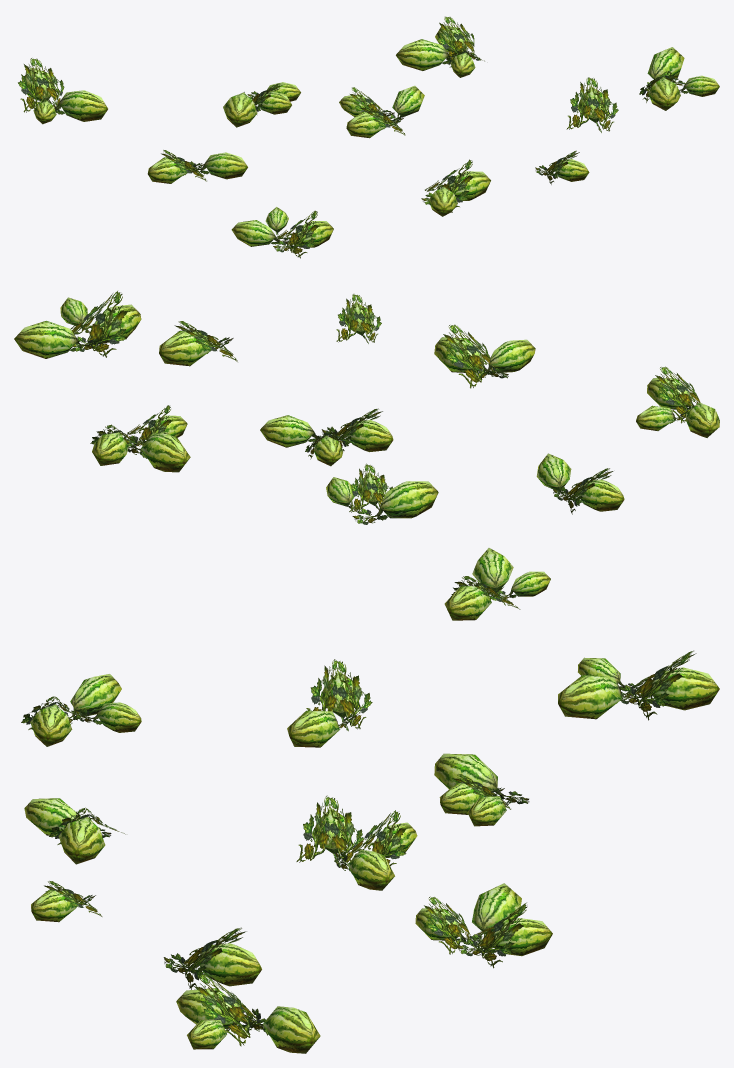
The model's file is elwynnmelon01.glb.
3 views of the same model, one above another, from view 1: azimuth 30°, elevation 25°; view 2: azimuth 150°, elevation 25°; view 3: azimuth 270°, elevation 25° (orthographic). The views are drawn at different scales.
Size of the model in its own units: 19.07 by 1.53 by 15.
2 materials, 2 textured.
